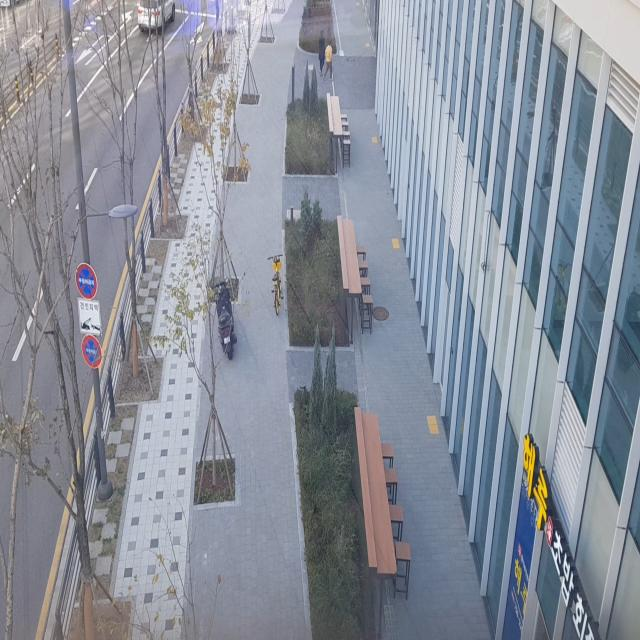Car: (134, 0, 180, 36)
